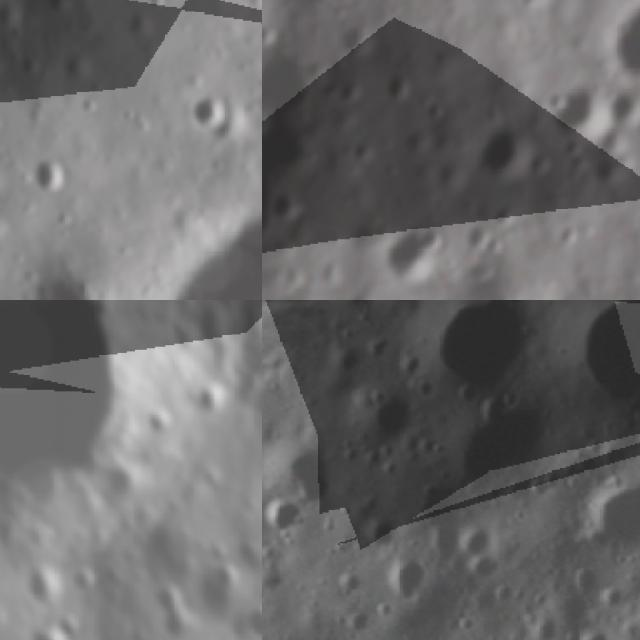crater: (0, 300, 146, 526), (390, 300, 551, 414), (126, 175, 262, 300), (539, 300, 640, 460), (262, 417, 356, 518), (564, 461, 640, 578), (342, 372, 428, 458), (372, 215, 458, 298), (544, 74, 619, 154), (466, 118, 541, 194), (2, 259, 134, 300), (597, 0, 640, 93), (175, 82, 238, 141), (383, 551, 441, 609), (24, 139, 77, 202), (262, 487, 305, 543), (23, 562, 66, 613), (264, 188, 312, 230), (381, 63, 424, 109), (607, 78, 640, 129), (358, 513, 399, 554), (458, 259, 502, 296), (102, 465, 138, 507), (157, 608, 199, 640), (193, 383, 230, 418), (232, 536, 262, 576), (70, 560, 100, 598), (211, 562, 243, 596), (151, 582, 186, 613), (0, 191, 17, 254), (236, 599, 262, 640), (40, 0, 83, 23), (558, 223, 586, 254), (480, 232, 510, 260), (493, 202, 519, 229), (29, 626, 76, 640)
